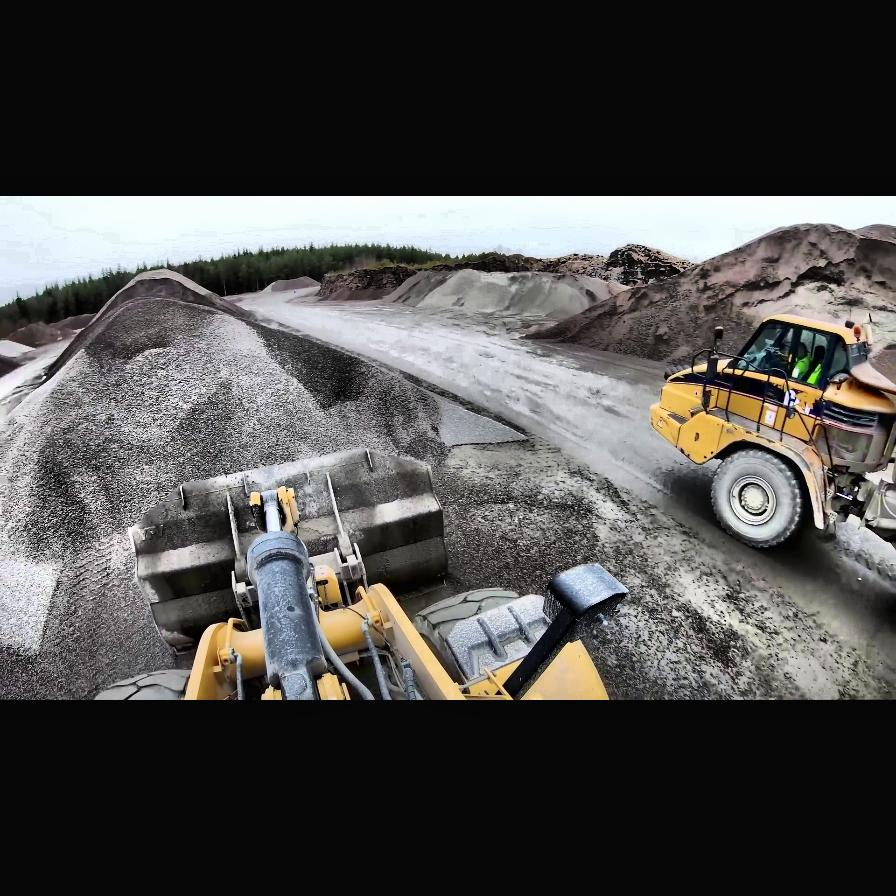anchor: (248, 486, 302, 531)
pile of gravel: (0, 296, 530, 558), (523, 219, 896, 369), (3, 315, 92, 351), (258, 277, 320, 295), (852, 224, 896, 246), (59, 314, 97, 334), (1, 340, 36, 358)
